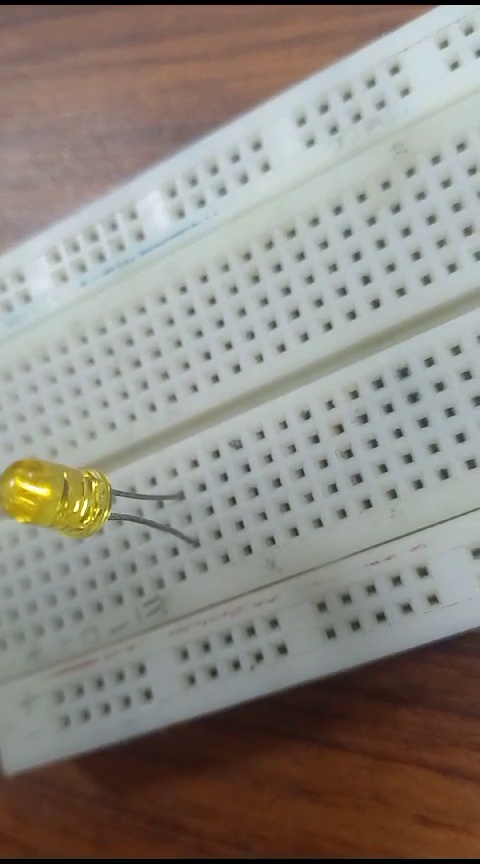LED: (1, 445, 202, 556)
